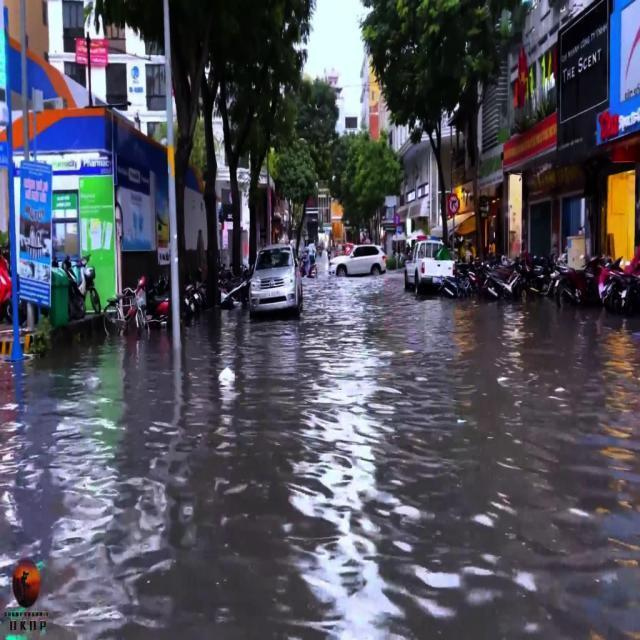123b-cam-re-phai: (448, 193, 460, 215)
